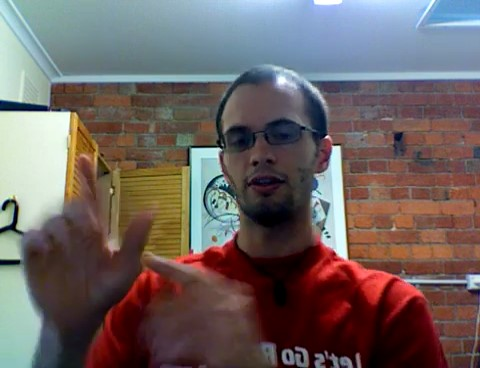Y: (15, 151, 259, 365)
